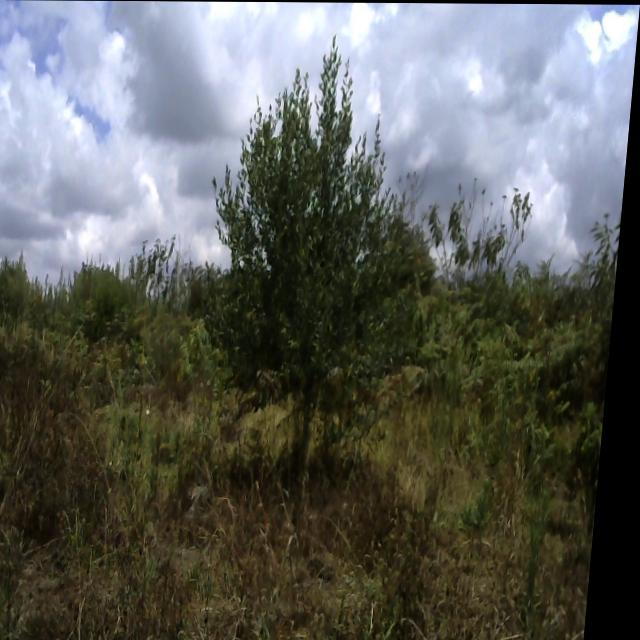Salix alba: (198, 41, 445, 464)
